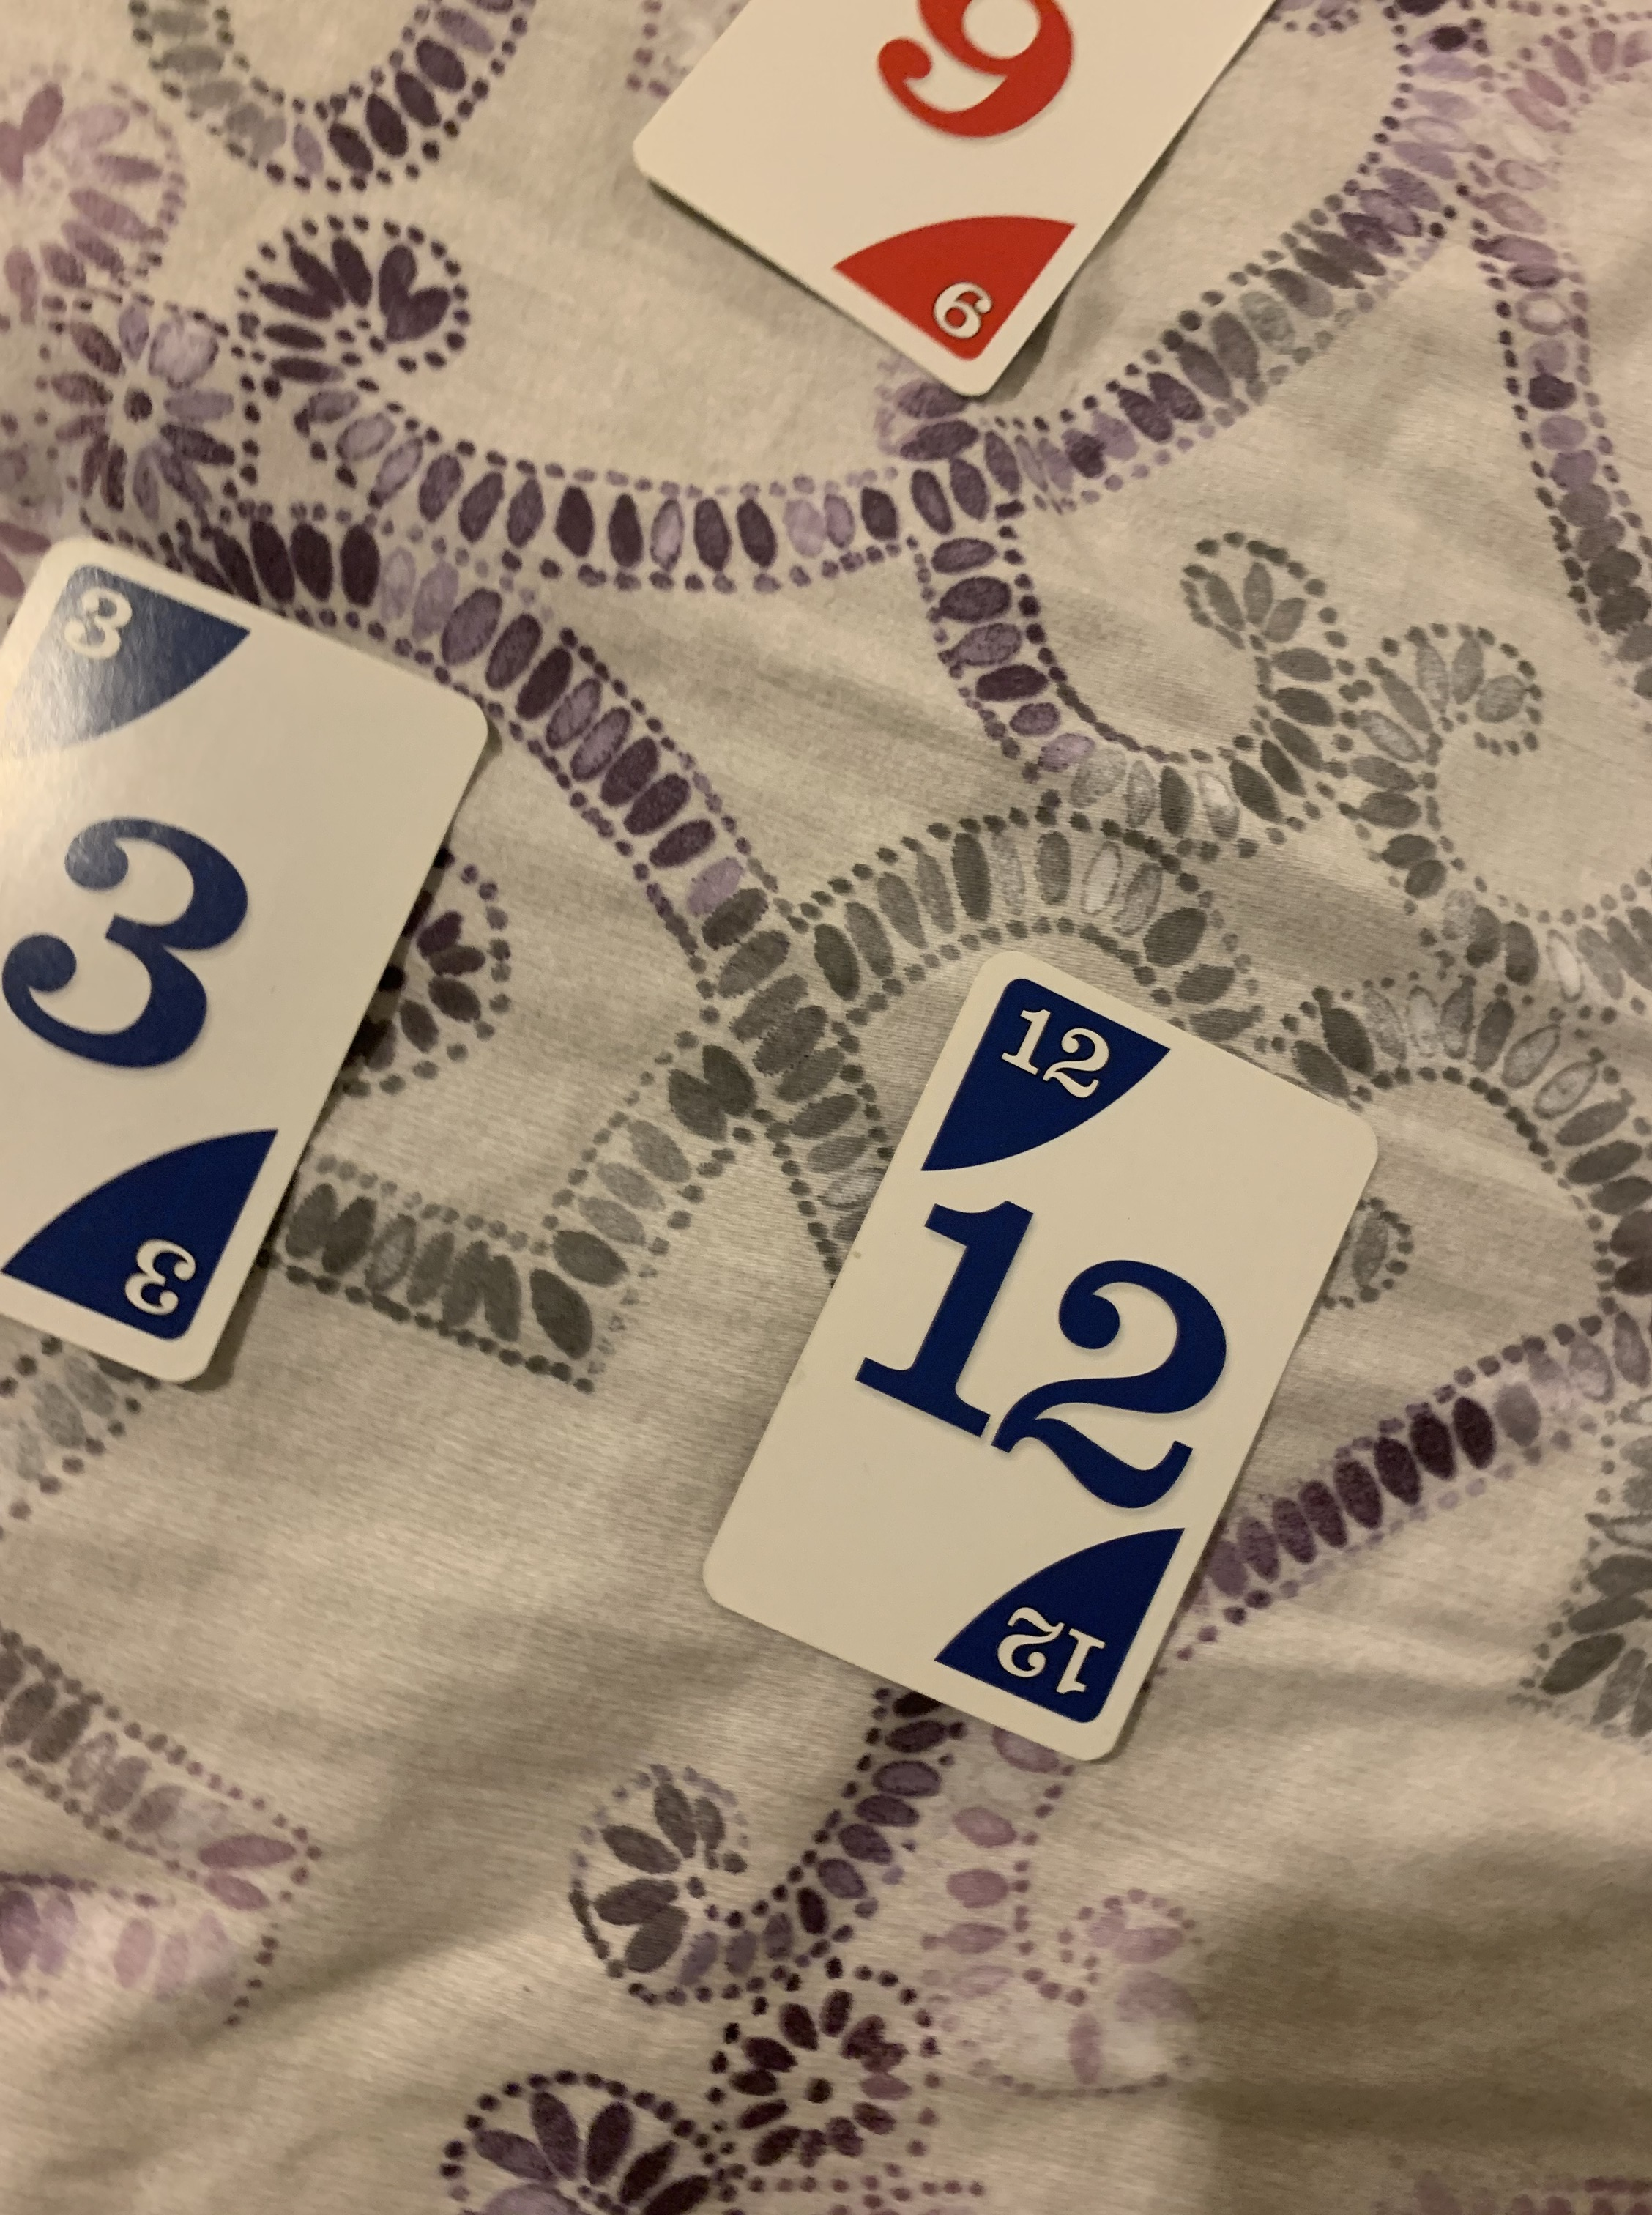three: (0, 528, 489, 1382)
twelve: (696, 948, 1376, 1771)
